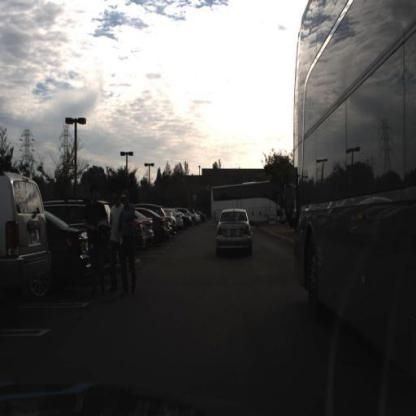car: (293, 3, 416, 354), (37, 202, 90, 253), (213, 207, 256, 261), (138, 204, 176, 246)
pedestrian: (87, 187, 106, 303), (116, 189, 137, 290), (119, 193, 137, 293), (109, 193, 123, 298), (111, 192, 122, 295)
truck: (292, 1, 416, 360), (210, 176, 298, 236), (210, 182, 287, 230)
